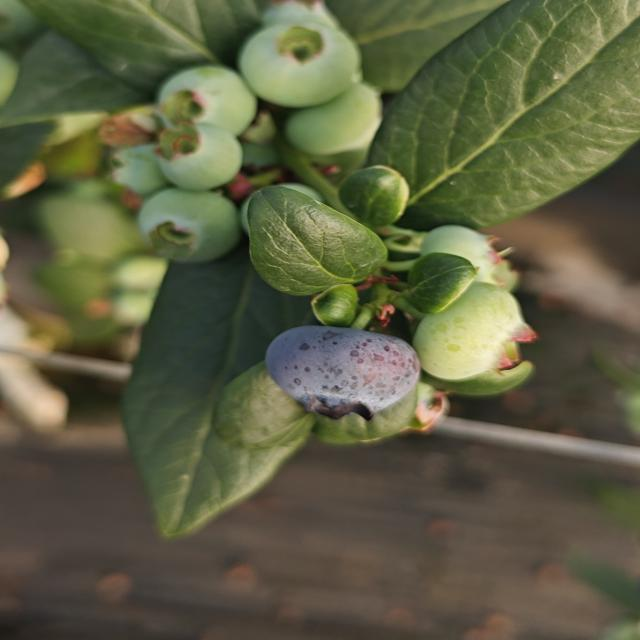ripe: (258, 312, 426, 421)
